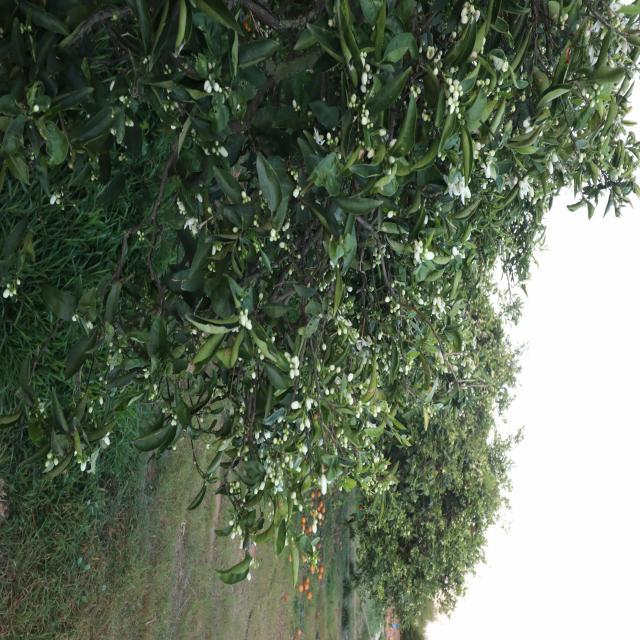Bunga: (80, 177, 118, 196), (177, 168, 204, 188), (2, 160, 24, 180), (150, 145, 178, 160), (165, 187, 199, 197), (350, 193, 374, 206), (34, 11, 56, 25), (10, 33, 32, 46), (173, 110, 198, 121), (46, 39, 66, 52), (127, 314, 146, 326), (474, 312, 496, 322), (0, 18, 16, 31), (297, 194, 312, 207), (454, 550, 472, 560), (164, 15, 180, 26), (239, 218, 261, 226), (17, 14, 31, 26), (357, 227, 375, 236), (150, 34, 170, 42), (336, 270, 348, 283), (78, 150, 89, 164), (216, 446, 231, 456), (143, 158, 158, 168), (384, 483, 400, 492), (82, 36, 96, 46), (13, 72, 30, 80), (253, 259, 268, 268), (482, 356, 494, 367), (248, 206, 260, 217), (192, 580, 205, 590), (46, 205, 60, 214), (152, 82, 164, 92), (358, 164, 371, 173), (120, 108, 134, 116), (138, 243, 150, 252), (352, 268, 364, 277), (452, 588, 467, 595), (401, 339, 411, 349), (97, 41, 108, 50), (71, 272, 85, 279), (469, 364, 483, 371), (288, 630, 300, 638), (315, 392, 327, 400), (482, 258, 494, 266), (152, 54, 164, 62), (135, 34, 148, 41), (369, 341, 379, 350), (37, 154, 55, 159), (82, 418, 93, 426), (146, 412, 157, 420), (148, 266, 159, 274), (432, 530, 446, 536), (260, 425, 272, 432), (104, 274, 118, 280), (356, 341, 368, 348), (426, 351, 440, 357), (520, 322, 534, 328), (162, 86, 174, 93), (95, 512, 104, 521), (368, 490, 378, 498), (188, 340, 198, 348), (437, 357, 445, 367), (483, 404, 493, 412), (444, 332, 452, 342), (481, 249, 491, 257), (536, 396, 549, 402), (117, 267, 128, 274), (428, 378, 439, 385), (414, 463, 426, 469), (301, 286, 310, 294), (434, 272, 446, 278), (245, 182, 257, 188), (175, 35, 187, 41), (170, 342, 180, 349), (320, 388, 330, 395), (428, 296, 438, 303), (80, 430, 91, 436), (525, 398, 536, 404), (120, 506, 128, 514), (154, 514, 162, 522), (204, 454, 212, 462), (196, 390, 204, 398), (308, 392, 316, 400), (62, 132, 71, 139), (30, 50, 39, 57), (358, 172, 367, 179), (94, 284, 104, 290), (56, 274, 66, 280), (352, 350, 362, 356), (397, 329, 409, 334), (430, 370, 440, 376), (372, 286, 382, 292), (352, 253, 364, 258), (76, 136, 86, 142), (129, 254, 136, 262), (210, 245, 218, 252), (326, 401, 334, 408), (364, 305, 372, 312), (306, 243, 314, 250), (371, 170, 379, 177), (116, 272, 125, 278), (193, 438, 203, 443), (245, 424, 255, 429), (481, 375, 491, 380), (360, 261, 370, 266), (246, 262, 256, 267), (423, 264, 428, 274), (187, 106, 197, 111), (321, 546, 328, 553), (242, 354, 249, 361), (288, 624, 296, 630), (104, 601, 112, 607), (128, 524, 136, 530), (80, 526, 92, 530), (128, 444, 136, 450), (229, 364, 237, 370), (139, 306, 145, 314), (85, 274, 93, 280), (20, 307, 28, 313), (156, 246, 164, 252), (416, 356, 424, 362), (406, 472, 414, 478), (467, 368, 475, 374), (534, 352, 546, 356), (438, 316, 446, 322), (232, 496, 241, 501), (147, 419, 156, 424), (132, 309, 141, 314), (242, 381, 251, 386), (332, 257, 341, 262), (314, 562, 321, 568), (100, 508, 107, 514), (175, 542, 181, 549), (226, 402, 233, 408), (51, 273, 57, 280), (461, 346, 468, 352), (532, 404, 539, 410), (327, 292, 334, 298), (398, 286, 405, 292), (443, 264, 450, 270), (389, 274, 396, 280), (366, 181, 372, 188), (396, 536, 404, 541), (86, 428, 94, 433), (243, 418, 251, 423), (234, 361, 242, 366), (222, 350, 230, 355), (100, 343, 108, 348), (70, 268, 80, 272), (292, 377, 300, 382), (418, 330, 428, 334), (455, 351, 463, 356), (572, 389, 580, 394), (478, 361, 486, 366), (466, 358, 476, 362), (366, 299, 374, 304), (328, 298, 336, 303), (442, 292, 450, 297), (456, 582, 465, 586), (225, 444, 234, 448), (328, 443, 334, 449), (512, 368, 521, 372), (558, 322, 564, 328), (333, 280, 339, 286), (296, 250, 302, 256), (87, 55, 96, 59), (105, 340, 112, 345), (388, 305, 395, 310), (317, 177, 324, 182), (93, 415, 104, 418), (206, 428, 214, 432), (192, 394, 200, 398), (138, 302, 146, 306), (423, 336, 431, 340), (406, 396, 414, 400), (474, 372, 482, 376), (504, 338, 512, 342), (411, 280, 419, 284), (104, 465, 110, 470), (236, 366, 242, 371), (110, 271, 116, 276), (488, 381, 494, 386), (520, 406, 526, 411), (492, 344, 498, 349), (407, 277, 413, 282), (407, 259, 413, 264), (464, 252, 470, 257), (286, 288, 291, 294), (320, 292, 326, 297), (286, 266, 292, 271), (384, 276, 389, 282), (406, 547, 413, 551), (64, 270, 71, 274), (167, 248, 174, 252), (372, 384, 379, 388), (482, 400, 489, 404), (558, 386, 565, 390), (545, 324, 552, 328), (124, 464, 129, 469), (417, 396, 422, 401), (391, 418, 396, 423), (438, 292, 443, 297), (243, 254, 248, 259), (58, 493, 64, 497), (341, 527, 347, 531), (360, 530, 366, 534), (147, 424, 153, 428), (148, 432, 154, 436), (102, 462, 108, 466), (210, 454, 214, 460), (220, 383, 226, 387), (226, 354, 232, 358), (154, 298, 160, 302), (336, 364, 342, 368), (387, 386, 393, 390), (388, 422, 396, 425), (414, 436, 422, 439), (476, 358, 484, 361), (500, 342, 506, 346), (513, 318, 519, 322), (344, 314, 350, 318), (390, 310, 394, 316), (400, 278, 406, 282), (453, 256, 459, 260), (442, 296, 448, 300), (450, 302, 456, 306), (313, 280, 319, 284), (303, 240, 309, 244), (66, 86, 70, 92), (354, 376, 361, 379), (376, 538, 381, 542), (354, 528, 359, 532), (155, 606, 160, 610), (202, 458, 206, 463), (447, 392, 452, 396), (501, 368, 506, 372), (401, 322, 406, 326), (412, 263, 417, 267), (458, 263, 463, 267), (354, 258, 358, 263), (254, 249, 258, 254), (248, 254, 253, 258), (456, 393, 462, 396), (398, 327, 404, 330), (302, 247, 308, 250), (486, 298, 492, 301), (280, 620, 284, 624), (284, 630, 288, 634), (458, 560, 466, 562), (380, 532, 384, 536), (527, 404, 531, 408), (482, 269, 486, 273), (348, 519, 353, 522), (69, 469, 74, 472), (348, 379, 353, 382), (444, 431, 449, 434), (230, 500, 236, 502), (152, 606, 156, 609), (140, 422, 146, 424), (64, 472, 70, 474), (224, 381, 228, 384), (244, 376, 248, 379), (364, 347, 368, 350), (542, 384, 546, 387), (514, 352, 520, 354), (537, 346, 541, 349), (481, 266, 485, 269), (463, 356, 468, 358), (451, 400, 456, 402), (247, 352, 250, 355), (456, 348, 460, 350), (358, 398, 360, 402), (296, 248, 300, 250), (71, 473, 74, 475)
Jeruk Sudah Matang: (500, 317, 510, 322), (566, 316, 573, 321), (592, 328, 599, 333), (585, 337, 592, 342), (525, 328, 533, 332), (518, 334, 524, 338), (543, 318, 549, 322), (574, 318, 580, 322), (566, 326, 572, 330), (584, 332, 590, 336), (523, 335, 530, 338), (414, 322, 419, 326), (520, 318, 526, 321), (528, 331, 534, 334), (578, 331, 584, 334), (492, 319, 497, 322), (492, 326, 498, 328), (508, 315, 512, 318), (514, 316, 520, 318)
